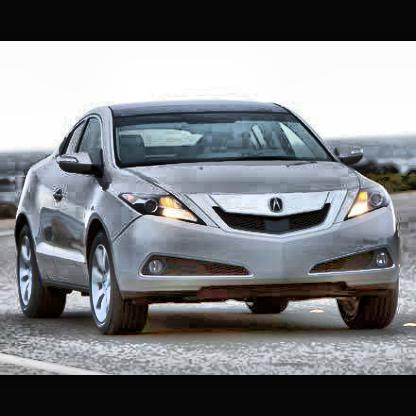Acura ZDX Hatchback 2012: (17, 99, 402, 337)
